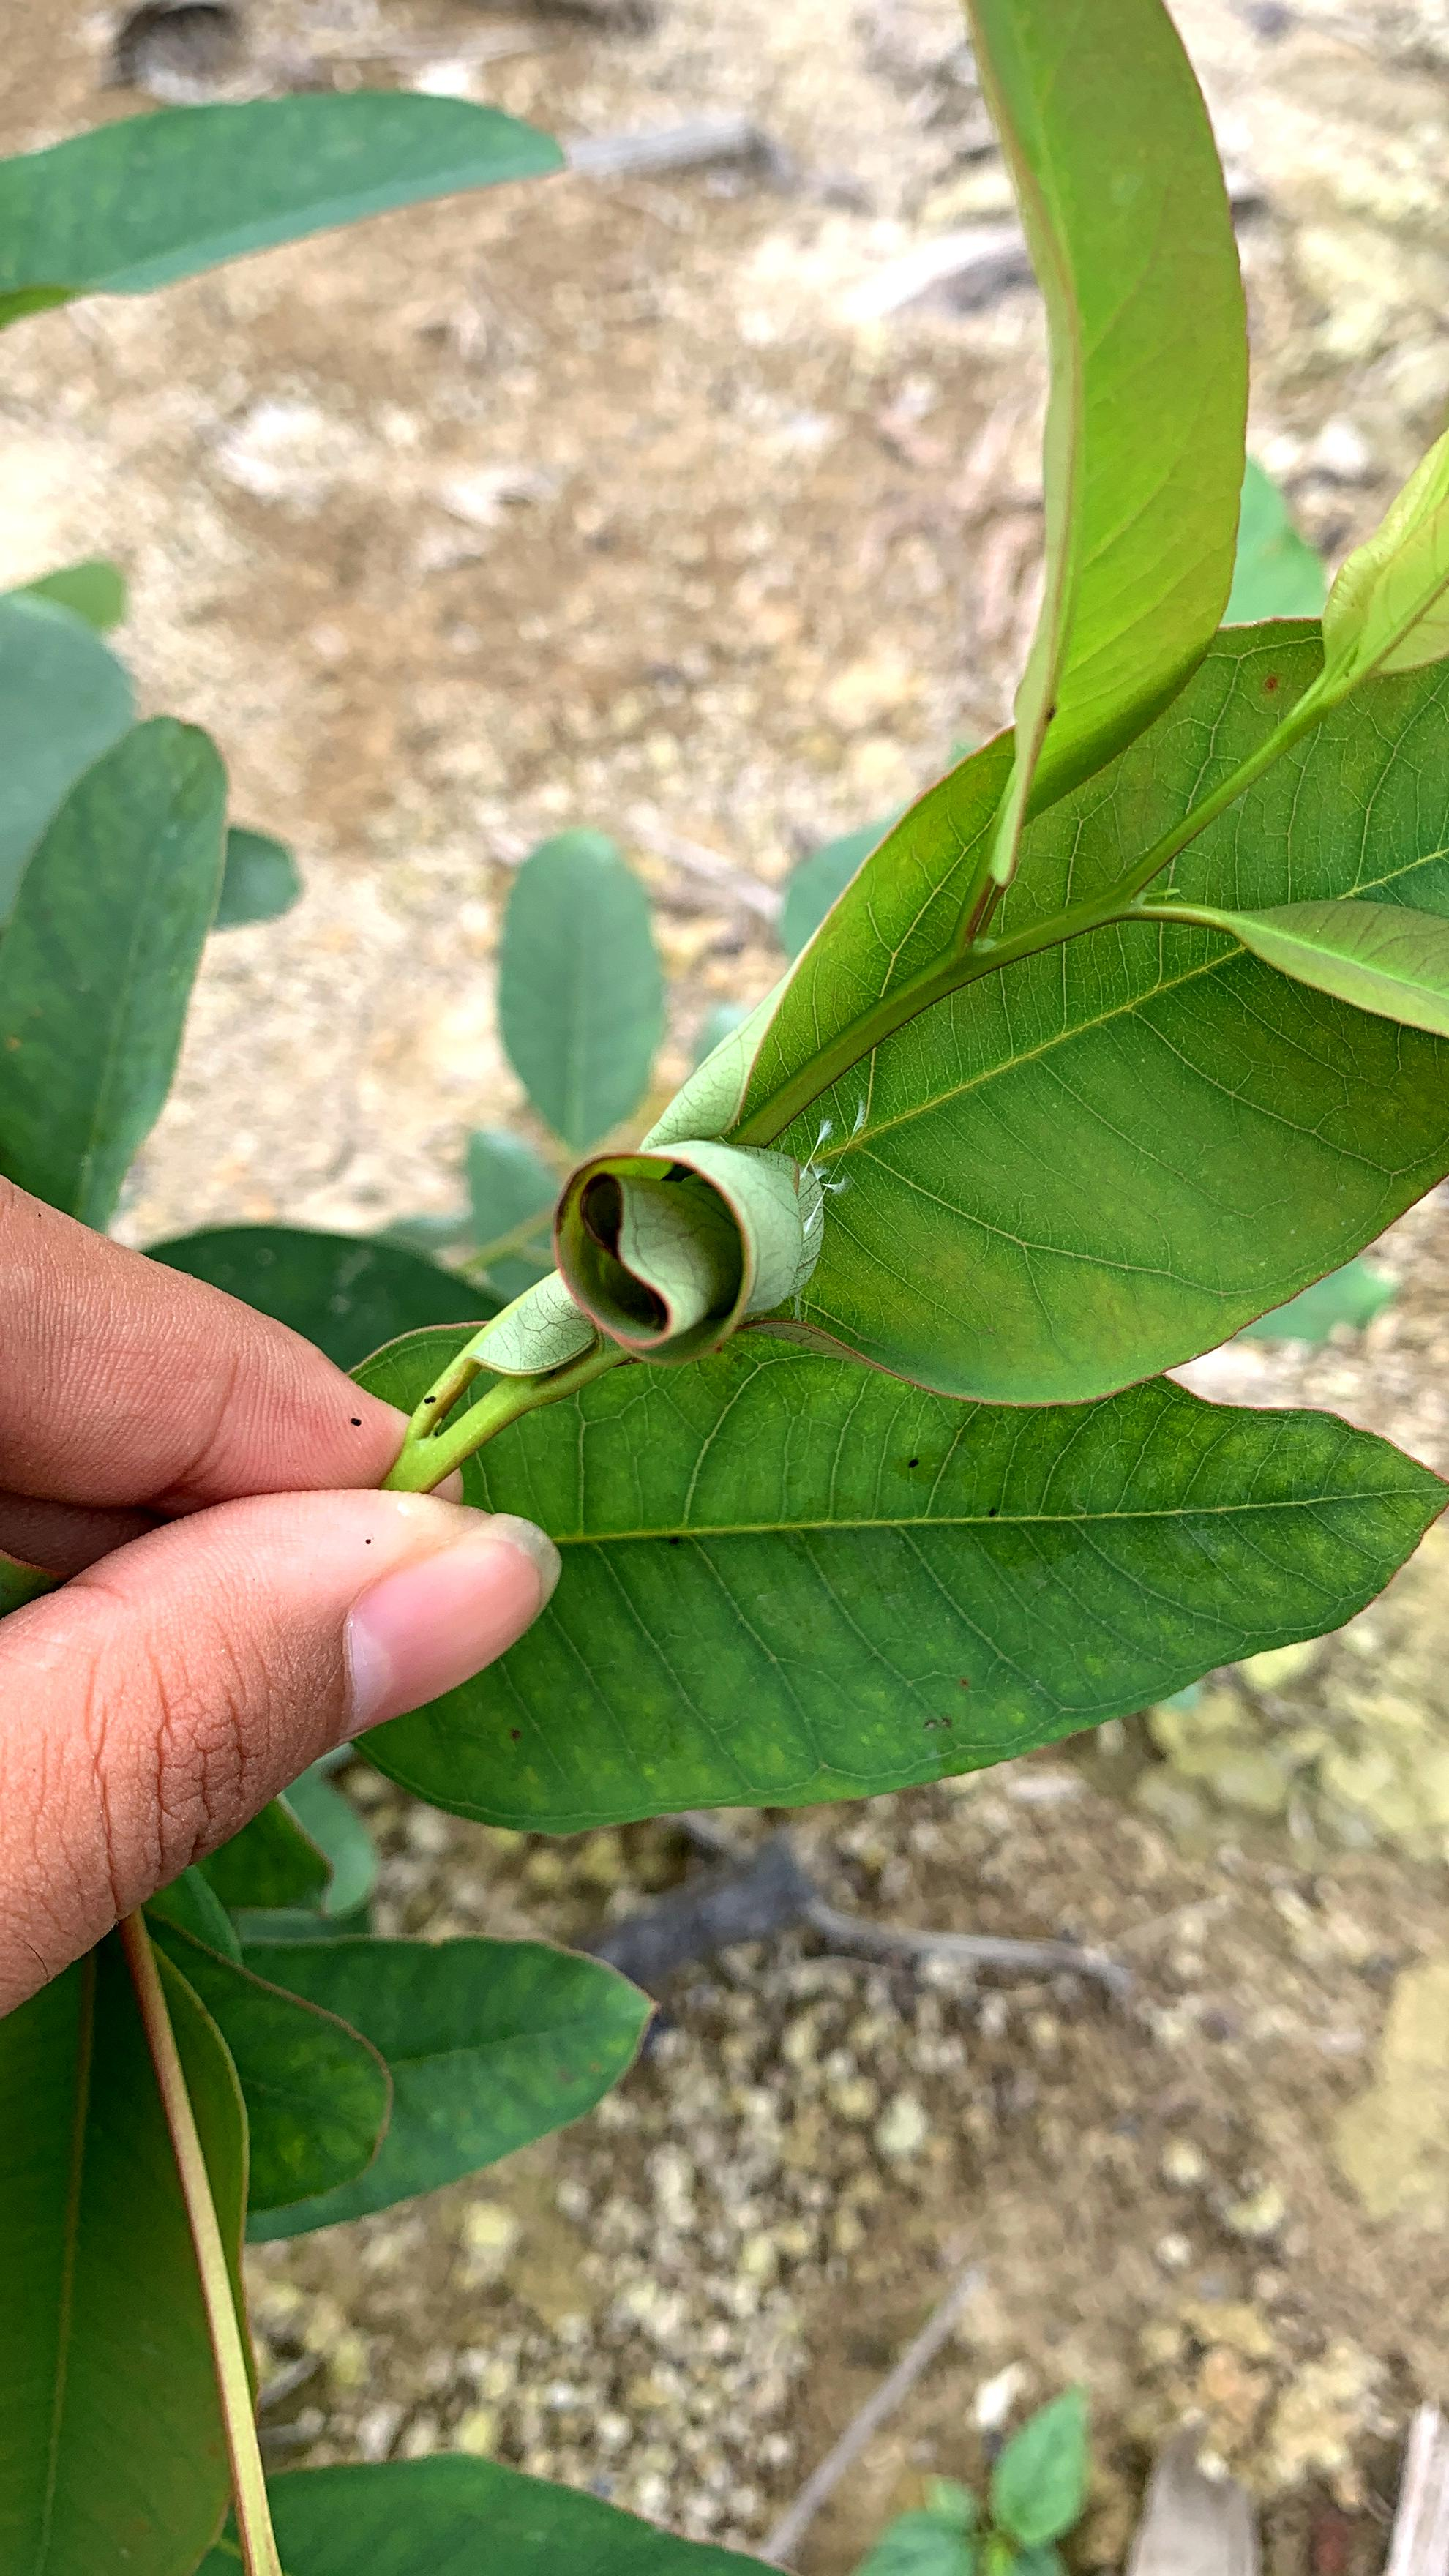Leaf Roller - Leaf: (469, 1123, 840, 1384)
